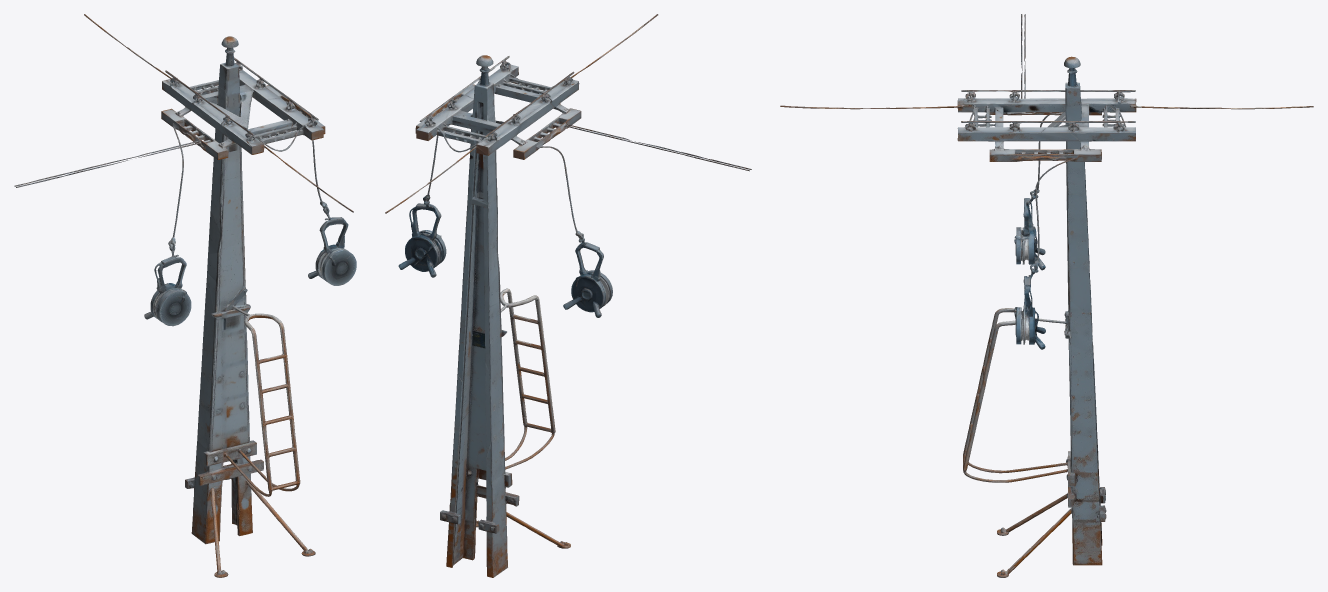
Rendered from lift_tower.glb.
The picture shows the model from 3 angles, left to right: view 1: azimuth 30°, elevation 25°; view 2: azimuth 150°, elevation 25°; view 3: azimuth 270°, elevation 25°; orthographic projection.
Size of the model in its own units: 1.35 by 1.9 by 1.85.
Materials: 1 (1 with a texture image).
